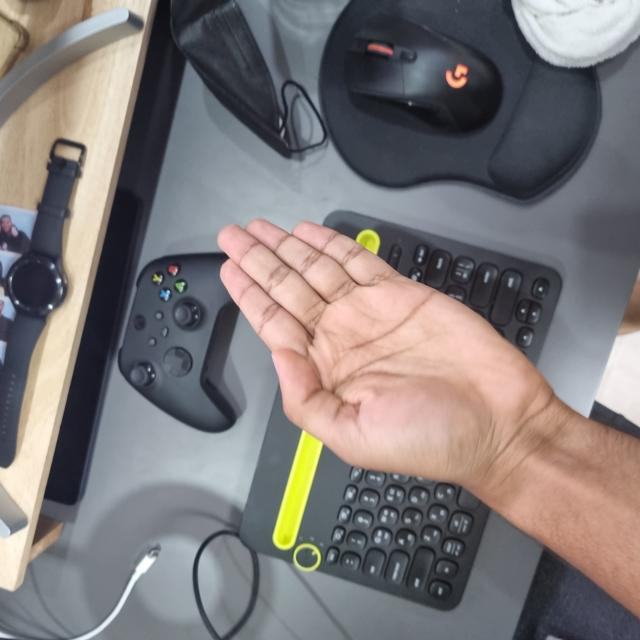Paper: (155, 219, 417, 543)
